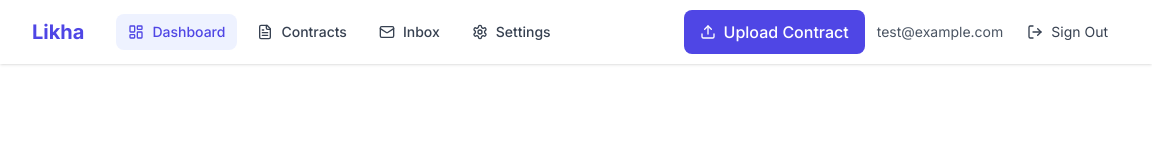
Test: Nav Component › shows error message on sign out failure
Click the button with test id "desktop-sign-out" at (1068, 32), box x1=1015 y1=14 x2=1120 y2=50
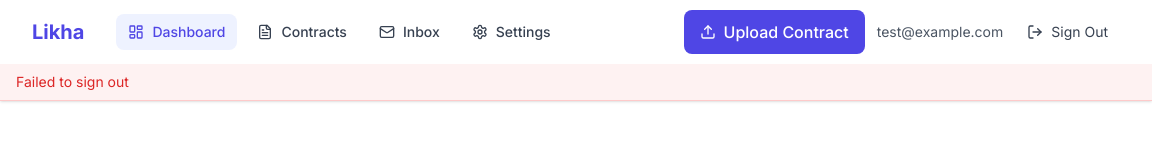
Expected: the text "Failed to sign out" is shown, x1=16 y1=73 x2=129 y2=90
